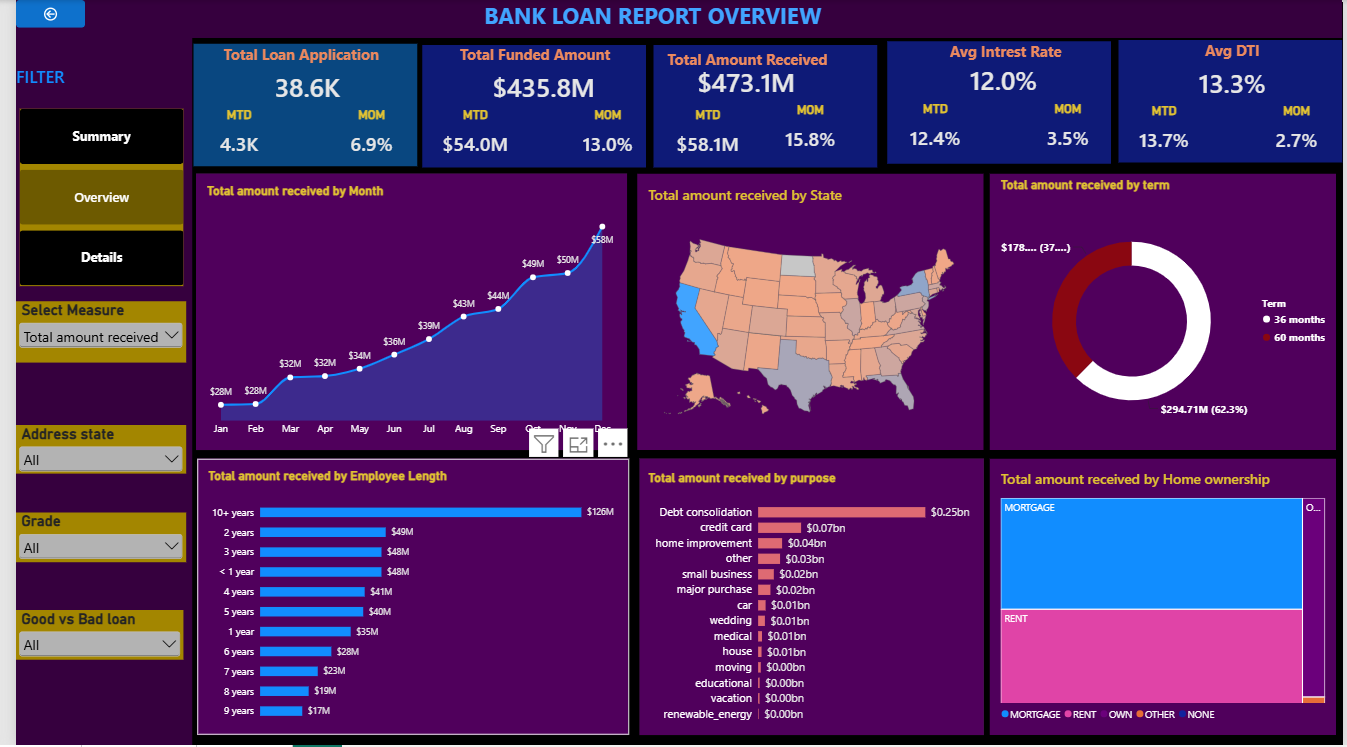

The dashboard page shown, as its layout file describes it:
{"tool":"powerbi","page":{"name":"Overview","canvas":[1920,1080],"ordinal":1},"visuals":[{"type":"shape","box":[1596.1,57.9,323.9,177.3],"z":0,"group":"g5"},{"type":"shape","box":[1261.3,59.7,323.9,177.3],"z":0,"group":"g4"},{"type":"shape","box":[257,63.3,323.9,177.3],"z":0,"group":"g1"},{"type":"shape","box":[588.1,64.5,323.9,177.3],"z":0,"group":"g2"},{"type":"shape","box":[922.9,65.1,323.9,177.3],"z":0,"group":"g3"},{"type":"shape","box":[260.6,251.5,624.3,399.9],"z":0},{"type":"shape","box":[0,0,1920.1,55],"z":1000},{"type":"card","fields":{"Values":["public financial_loan.Avg intrest rate"]},"box":[1309.2,85.3,242.5,63.3],"z":1000,"group":"g4"},{"type":"card","fields":{"Values":["public financial_loan.Total amount received"]},"box":[935.1,86.6,242.5,63.3],"z":1000,"group":"g3"},{"type":"card","fields":{"Values":["public financial_loan.Avg DTI"]},"box":[1639.5,88.7,242.5,63.3],"z":1000,"group":"g5"},{"type":"card","fields":{"Values":["public financial_loan.Total loan application"]},"box":[300.4,94.1,242.5,63.3],"z":1000,"group":"g1"},{"type":"card","fields":{"Values":["public financial_loan.Total funded amount"]},"box":[642.4,94.1,242.5,63.3],"z":1000,"group":"g2"},{"type":"shape","box":[0,54.3,255.2,1026.1],"z":2000},{"type":"textbox","box":[1639.5,57.9,242.5,30.8],"z":2000,"group":"g5"},{"type":"textbox","box":[300.4,63.3,242.5,30.8],"z":2000,"group":"g1"},{"type":"textbox","box":[642.4,63.3,242.5,30.8],"z":2000,"group":"g2"},{"type":"textbox","box":[943.2,70.9,251.9,29.1],"z":2000,"group":"g3"},{"type":"textbox","box":[419.8,0,1004.4,54.3],"z":3000},{"type":"card","title":"MTD","fields":{"Values":["public financial_loan.MTD avg int rate"]},"box":[1265.8,132.4,132.1,99.5],"z":3000,"group":"g4"},{"type":"card","title":"MTD","fields":{"Values":["public financial_loan.MTD avg DTI"]},"box":[1596.1,135.7,132.1,99.5],"z":3000,"group":"g5"},{"type":"card","title":"MTD","fields":{"Values":["public financial_loan.MTD total amount received"]},"box":[935.6,140.3,132.1,99.5],"z":3000,"group":"g3"},{"type":"card","title":"MTD","fields":{"Values":["public financial_loan.MTD loan application"]},"box":[257,141.1,132.1,99.5],"z":3000,"group":"g1"},{"type":"card","title":"MTD","fields":{"Values":["public financial_loan.MTD Funded amount"]},"box":[599,141.1,132.1,99.5],"z":3000,"group":"g2"},{"type":"group","id":"g1","title":"Group 1","box":[257,63.3,323.9,177.3],"z":4000},{"type":"card","title":"MOM","fields":{"Values":["public financial_loan.MOM avg int rate"]},"box":[1457.6,132.4,132.1,99.5],"z":4000,"group":"g4"},{"type":"card","title":"MOM","fields":{"Values":["public financial_loan.MOM total amount received"]},"box":[1083.5,133.6,132.1,99.5],"z":4000,"group":"g3"},{"type":"card","title":"MOM","fields":{"Values":["public financial_loan.MOM avg DTI"]},"box":[1787.9,135.7,132.1,99.5],"z":4000,"group":"g5"},{"type":"card","title":"MOM","fields":{"Values":["public financial_loan.MOM Loan Application"]},"box":[448.8,141.1,132.1,99.5],"z":4000,"group":"g1"},{"type":"card","title":"MOM","fields":{"Values":["public financial_loan.MOM total funded amount"]},"box":[790.8,141.1,132.1,99.5],"z":4000,"group":"g2"},{"type":"group","id":"g2","title":"Group 1","box":[588.1,63.3,334.8,178.5],"z":5000},{"type":"group","id":"g3","title":"Group 1","box":[922.9,65.1,323.9,177.3],"z":6000},{"type":"group","id":"g4","title":"Group 1","box":[1261.3,59.7,329.4,177.3],"z":7000},{"type":"textbox","box":[1352.6,60.1,219,31],"z":8000},{"type":"group","id":"g5","title":"Group 1","box":[1596.1,57.9,323.9,177.3],"z":9000},{"type":"shape","box":[899.4,251.5,501.3,399.9],"z":10000},{"type":"actionButton","box":[0,0,100,40],"z":11000},{"type":"slicer","fields":{"Values":["public financial_loan.address_state"]},"box":[0,615.3,246.1,70.6],"z":12000},{"type":"slicer","fields":{"Values":["public financial_loan.grade"]},"box":[0,742,246.1,72.4],"z":13000},{"type":"slicer","fields":{"Values":["public financial_loan.Good vs Bad loan"]},"box":[0,883.1,242.5,72.4],"z":14000},{"type":"areaChart","fields":{"Category":["Date Table.Month"],"Y":["public financial_loan.Total amount received"]},"box":[260.6,251.5,624.3,399.9],"z":15000},{"type":"slicer","fields":{"Values":["Select Measure.Select Measure"]},"box":[0,436.1,246.1,88.7],"z":16000},{"type":"shapeMap","fields":{"Category":["public financial_loan.address_state"],"Value":["public financial_loan.Total amount received"]},"box":[899.4,253.4,497.7,398.1],"z":17000},{"type":"shape","box":[1409.7,251.5,501.3,399.9],"z":18000},{"type":"donutChart","fields":{"Category":["public financial_loan.term"],"Y":["public financial_loan.Total amount received"]},"box":[1409.7,242.5,510.3,409],"z":19000},{"type":"shape","box":[262.4,664.1,624.3,399.9],"z":20000},{"type":"shape","box":[903,664.1,497.7,399.9],"z":22000},{"type":"barChart","fields":{"Category":["public financial_loan.purpose"],"Y":["public financial_loan.Total amount received"]},"box":[899.4,666,497.7,399.9],"z":22001},{"type":"barChart","fields":{"Category":["public financial_loan.emp_length"],"Y":["public financial_loan.Total amount received"]},"box":[262.4,664.1,624.3,399.9],"z":22002},{"type":"shape","box":[1409.7,664.1,501.3,399.9],"z":22003},{"type":"treemap","fields":{"Group":["public financial_loan.home_ownership"],"Values":["public financial_loan.Total amount received"]},"box":[1409.7,664.1,501.3,399.9],"z":22004},{"type":"pageNavigator","box":[5.4,157.4,237.1,257],"z":22005},{"type":"textbox","box":[0,94.1,242.5,56.1],"z":22006}]}

Visuals, with their boxes on the page's 1920x1080 design canvas (x1, y1, x2, y2). These are canvas units, not pixel positions in the 1347x747 screenshot, which may show the page scaled, cropped or inside an application window:
shape: box=[1596, 58, 1920, 235]
shape: box=[1261, 60, 1585, 237]
shape: box=[257, 63, 581, 241]
shape: box=[588, 64, 912, 242]
shape: box=[923, 65, 1247, 242]
shape: box=[261, 252, 885, 651]
shape: box=[0, 0, 1920, 55]
card - public financial_loan.Avg intrest rate: box=[1309, 85, 1552, 149]
card - public financial_loan.Total amount received: box=[935, 87, 1178, 150]
card - public financial_loan.Avg DTI: box=[1640, 89, 1882, 152]
card - public financial_loan.Total loan application: box=[300, 94, 543, 157]
card - public financial_loan.Total funded amount: box=[642, 94, 885, 157]
shape: box=[0, 54, 255, 1080]
textbox: box=[1640, 58, 1882, 89]
textbox: box=[300, 63, 543, 94]
textbox: box=[642, 63, 885, 94]
textbox: box=[943, 71, 1195, 100]
textbox: box=[420, 0, 1424, 54]
"MTD" card: box=[1266, 132, 1398, 232]
"MTD" card: box=[1596, 136, 1728, 235]
"MTD" card: box=[936, 140, 1068, 240]
"MTD" card: box=[257, 141, 389, 241]
"MTD" card: box=[599, 141, 731, 241]
"Group 1" group: box=[257, 63, 581, 241]
"MOM" card: box=[1458, 132, 1590, 232]
"MOM" card: box=[1084, 134, 1216, 233]
"MOM" card: box=[1788, 136, 1920, 235]
"MOM" card: box=[449, 141, 581, 241]
"MOM" card: box=[791, 141, 923, 241]
"Group 1" group: box=[588, 63, 923, 242]
"Group 1" group: box=[923, 65, 1247, 242]
"Group 1" group: box=[1261, 60, 1591, 237]
textbox: box=[1353, 60, 1572, 91]
"Group 1" group: box=[1596, 58, 1920, 235]
shape: box=[899, 252, 1401, 651]
actionButton: box=[0, 0, 100, 40]
slicer - public financial_loan.address_state: box=[0, 615, 246, 686]
slicer - public financial_loan.grade: box=[0, 742, 246, 814]
slicer - public financial_loan.Good vs Bad loan: box=[0, 883, 242, 956]
areaChart - Date Table.Month x public financial_loan.Total amount received: box=[261, 252, 885, 651]
slicer - Select Measure.Select Measure: box=[0, 436, 246, 525]
shapeMap - public financial_loan.address_state x public financial_loan.Total amount received: box=[899, 253, 1397, 652]
shape: box=[1410, 252, 1911, 651]
donutChart - public financial_loan.term x public financial_loan.Total amount received: box=[1410, 242, 1920, 652]
shape: box=[262, 664, 887, 1064]
shape: box=[903, 664, 1401, 1064]
barChart - public financial_loan.purpose x public financial_loan.Total amount received: box=[899, 666, 1397, 1066]
barChart - public financial_loan.emp_length x public financial_loan.Total amount received: box=[262, 664, 887, 1064]
shape: box=[1410, 664, 1911, 1064]
treemap - public financial_loan.home_ownership x public financial_loan.Total amount received: box=[1410, 664, 1911, 1064]
pageNavigator: box=[5, 157, 242, 414]
textbox: box=[0, 94, 242, 150]
